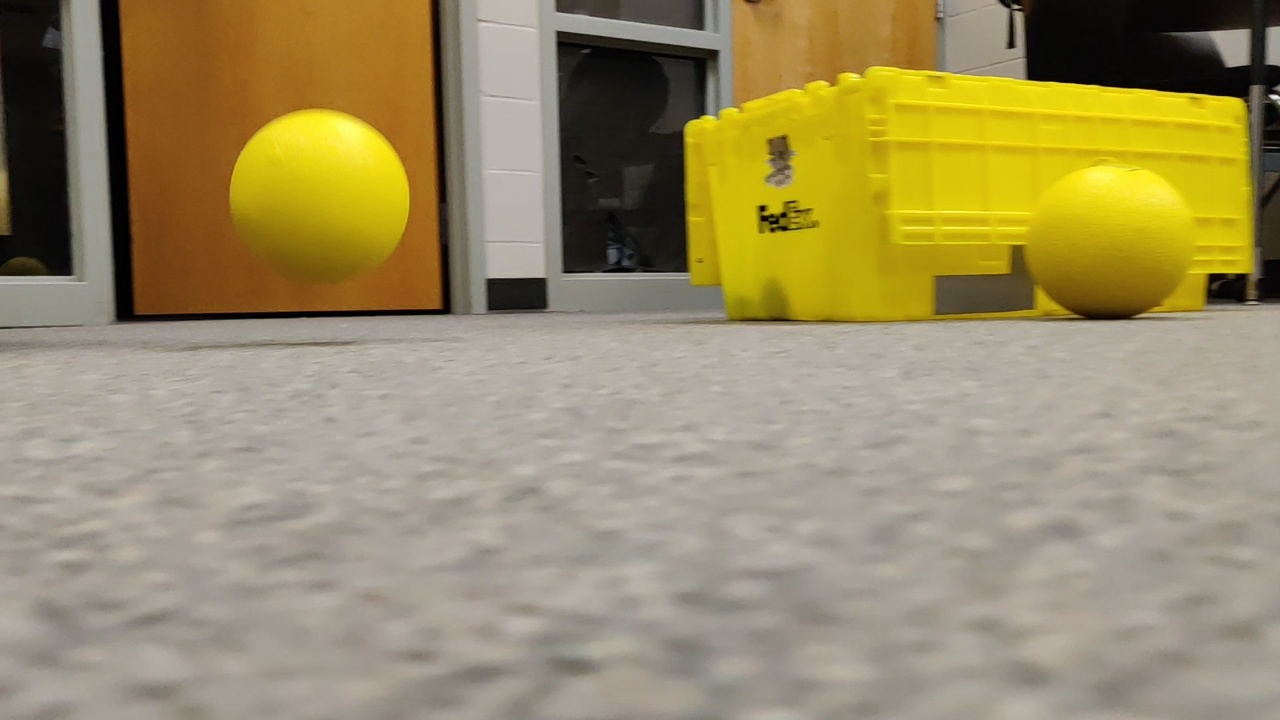Ball: (219, 97, 412, 290), (1026, 155, 1205, 326)
